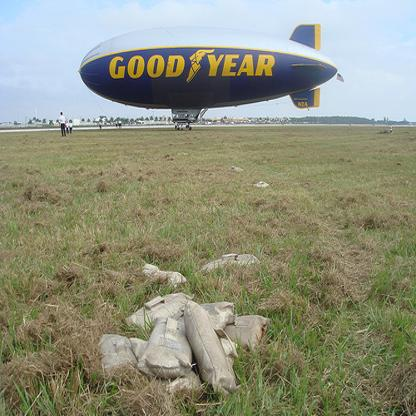Airship: (78, 23, 341, 121)
